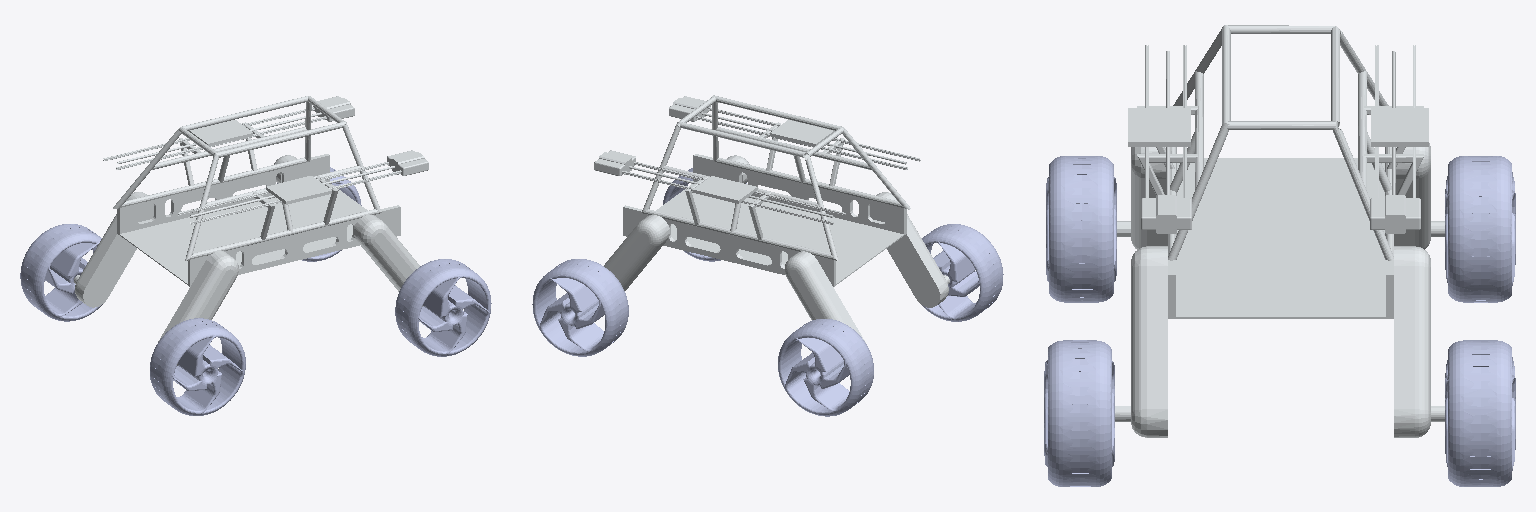
robot.urdf — farmbot_description:
<?xml version="1.0" encoding="utf-8"?>
<!-- This URDF was automatically created by SolidWorks to URDF Exporter! Originally created by [author] ([email redacted]) 
     Commit Version: 1.6.0-4-g7f85cfe  Build Version: 1.6.7995.38578
     For more information, please see http://wiki.ros.org/sw_urdf_exporter -->
<robot
  name="farmbot_description">
  <link
    name="base_link">
    <inertial>
      <origin
        xyz="0.0397351421714649 -0.00523316717396427 -0.0506956721866616"
        rpy="0 0 0" />
      <mass
        value="765.082786359246" />
      <inertia
        ixx="123.363633235284"
        ixy="-4.05127262052682"
        ixz="-1.81192358757159"
        iyy="347.001423957529"
        iyz="-19.0742943855652"
        izz="396.269786227211" />
    </inertial>
    <visual>
      <origin
        xyz="0 0 0"
        rpy="0 0 0" />
      <geometry>
        <mesh
          filename="package://farmbot_description/meshes/base_link.STL" />
      </geometry>
      <material
        name="">
        <color
          rgba="0.898039215686275 0.917647058823529 0.929411764705882 1" />
      </material>
    </visual>
    <collision>
      <origin
        xyz="0 0 0"
        rpy="0 0 0" />
      <geometry>
        <mesh
          filename="package://farmbot_description/meshes/base_link.STL" />
      </geometry>
    </collision>
  </link>
  <link
    name="front_wheel_right">
    <inertial>
      <origin
        xyz="-4.09994216354903E-09 0.0273313494100043 2.05165684441511E-08"
        rpy="0 0 0" />
      <mass
        value="75.2974306084418" />
      <inertia
        ixx="3.97273337439722"
        ixy="-8.12301090546896E-10"
        ixz="-2.38621947966849E-07"
        iyy="6.52717930000384"
        iyz="2.4916888737866E-08"
        izz="3.97273354189052" />
    </inertial>
    <visual>
      <origin
        xyz="0 0 0"
        rpy="0 0 0" />
      <geometry>
        <mesh
          filename="package://farmbot_description/meshes/front_wheel_right.STL" />
      </geometry>
      <material
        name="">
        <color
          rgba="0.792156862745098 0.819607843137255 0.933333333333333 1" />
      </material>
    </visual>
    <collision>
      <origin
        xyz="0 0 0"
        rpy="0 0 0" />
      <geometry>
        <mesh
          filename="package://farmbot_description/meshes/front_wheel_right.STL" />
      </geometry>
    </collision>
  </link>
  <joint
    name="front_wheel_right_joint"
    type="revolute">
    <origin
      xyz="1.13324967562402 -1.1 -0.50636922357741"
      rpy="0 0 0" />
    <parent
      link="base_link" />
    <child
      link="front_wheel_right" />
    <axis
      xyz="0 -1 0" />
    <limit
      lower="0"
      upper="0"
      effort="0"
      velocity="0" />
  </joint>
  <link
    name="front_wheel_left">
    <inertial>
      <origin
        xyz="4.07161904192321E-09 -0.0373559005899962 2.05222080440493E-08"
        rpy="0 0 0" />
      <mass
        value="75.297430608442" />
      <inertia
        ixx="3.97273323010825"
        ixy="8.79404178645542E-09"
        ixz="-1.0933292945157E-07"
        iyy="6.52717930000387"
        iyz="2.33275835192285E-08"
        izz="3.97273368617951" />
    </inertial>
    <visual>
      <origin
        xyz="0 0 0"
        rpy="0 0 0" />
      <geometry>
        <mesh
          filename="package://farmbot_description/meshes/front_wheel_left.STL" />
      </geometry>
      <material
        name="">
        <color
          rgba="0.792156862745098 0.819607843137255 0.933333333333333 1" />
      </material>
    </visual>
    <collision>
      <origin
        xyz="0 0 0"
        rpy="0 0 0" />
      <geometry>
        <mesh
          filename="package://farmbot_description/meshes/front_wheel_left.STL" />
      </geometry>
    </collision>
  </link>
  <joint
    name="front_wheel_left_joint"
    type="revolute">
    <origin
      xyz="1.13324967562402 1.1 -0.50636922357741"
      rpy="0 0 0" />
    <parent
      link="base_link" />
    <child
      link="front_wheel_left" />
    <axis
      xyz="0 1 0" />
    <limit
      lower="0"
      upper="0"
      effort="0"
      velocity="0" />
  </joint>
  <link
    name="rear_wheel_right">
    <inertial>
      <origin
        xyz="-3.86647994177203E-09 0.0373313494100045 2.0561844338296E-08"
        rpy="0 0 0" />
      <mass
        value="75.2974306084417" />
      <inertia
        ixx="3.97273336899472"
        ixy="-5.29037534574971E-10"
        ixz="-2.36656657829227E-07"
        iyy="6.52717930000384"
        iyz="2.49245119024674E-08"
        izz="3.97273354729302" />
    </inertial>
    <visual>
      <origin
        xyz="0 0 0"
        rpy="0 0 0" />
      <geometry>
        <mesh
          filename="package://farmbot_description/meshes/rear_wheel_right.STL" />
      </geometry>
      <material
        name="">
        <color
          rgba="0.792156862745098 0.819607843137255 0.933333333333333 1" />
      </material>
    </visual>
    <collision>
      <origin
        xyz="0 0 0"
        rpy="0 0 0" />
      <geometry>
        <mesh
          filename="package://farmbot_description/meshes/rear_wheel_right.STL" />
      </geometry>
    </collision>
  </link>
  <joint
    name="rear_wheel_right_joint"
    type="revolute">
    <origin
      xyz="-1.1936883604935 -1.1 -0.50636922357741"
      rpy="0 0 0" />
    <parent
      link="base_link" />
    <child
      link="rear_wheel_right" />
    <axis
      xyz="0 -1 0" />
    <limit
      lower="0"
      upper="0"
      effort="0"
      velocity="0" />
  </joint>
  <link
    name="rear_wheel_left">
    <inertial>
      <origin
        xyz="-0.0016753876990174 -0.0373559005899956 -0.000576889073542142"
        rpy="0 0 0" />
      <mass
        value="75.2974306084418" />
      <inertia
        ixx="3.97273323010823"
        ixy="8.79404135440572E-09"
        ixz="-1.09332927691436E-07"
        iyy="6.52717930000384"
        iyz="2.33275816313691E-08"
        izz="3.9727336861795" />
    </inertial>
    <visual>
      <origin
        xyz="0 0 0"
        rpy="0 0 0" />
      <geometry>
        <mesh
          filename="package://farmbot_description/meshes/rear_wheel_left.STL" />
      </geometry>
      <material
        name="">
        <color
          rgba="0.792156862745098 0.819607843137255 0.933333333333333 1" />
      </material>
    </visual>
    <collision>
      <origin
        xyz="0 0 0"
        rpy="0 0 0" />
      <geometry>
        <mesh
          filename="package://farmbot_description/meshes/rear_wheel_left.STL" />
      </geometry>
    </collision>
  </link>
  <joint
    name="rear_wheel_left_joint"
    type="revolute">
    <origin
      xyz="-1.19201296872286 1.1 -0.50579231398166"
      rpy="0 0 0" />
    <parent
      link="base_link" />
    <child
      link="rear_wheel_left" />
    <axis
      xyz="0 1 0" />
    <limit
      lower="0"
      upper="0"
      effort="0"
      velocity="0" />
  </joint>
</robot>

--- Facts derived from the render (not from the file) ---
Views: 3 orthographic renders of the robot side by side, from view 1: azimuth 30°, elevation 25°; view 2: azimuth 150°, elevation 25°; view 3: azimuth 270°, elevation 25°.
Model farmbot_description with 5 links and 4 joints (4 revolute), rooted at base_link, posed every joint at zero.
Visible links, largest first — view 1: base_link, rear_wheel_right, front_wheel_right, rear_wheel_left; view 2: base_link, front_wheel_left, rear_wheel_left, rear_wheel_right; view 3: base_link, rear_wheel_right, front_wheel_right, front_wheel_left, rear_wheel_left.
Boxes of the visible links, x1,y1,x2,y2 form: base_link: (74,96,428,365); rear_wheel_right: (150,318,245,415); front_wheel_right: (395,259,491,356); rear_wheel_left: (20,224,102,321); base_link: (594,95,949,342); front_wheel_left: (532,259,628,356); rear_wheel_left: (778,319,873,416); rear_wheel_right: (922,224,1003,321); base_link: (1115,25,1444,437); rear_wheel_right: (1046,156,1116,302); front_wheel_right: (1044,340,1114,486); front_wheel_left: (1445,340,1515,486); rear_wheel_left: (1445,156,1515,302).
Bounding box of the posed robot: 3.11 × 2.51 × 1.88 m (x, y, z).
Meshes: 5 distinct files referenced, 5 mesh visuals loaded (5 binary STL).